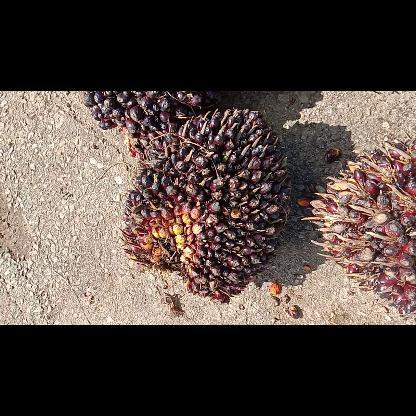TBS mentah: (120, 108, 290, 304), (301, 129, 415, 317), (80, 91, 202, 161)
